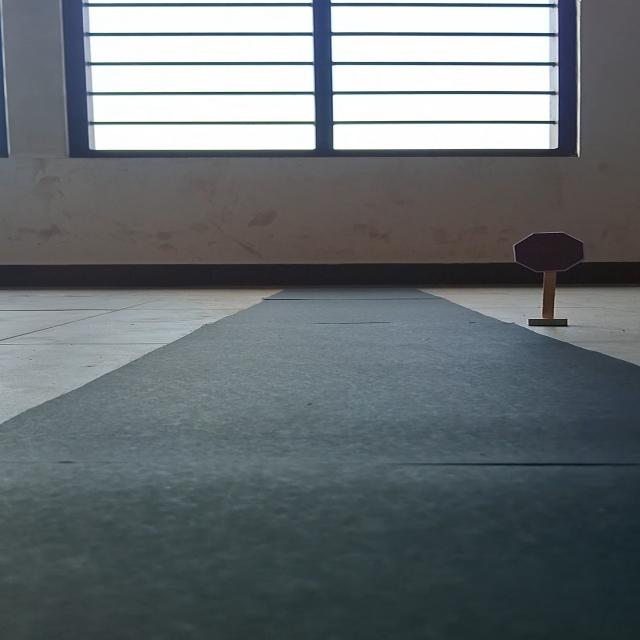Stop: (513, 232, 586, 272)
